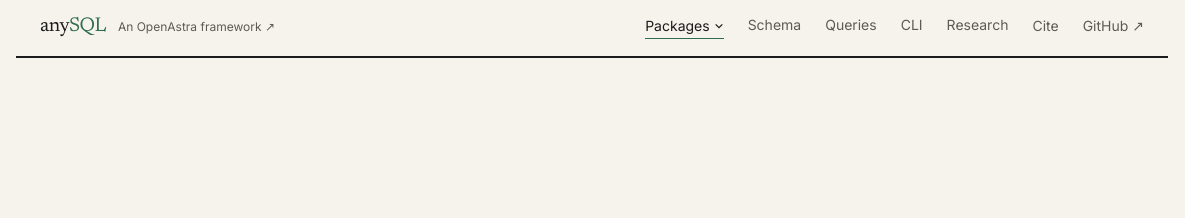
Scenario: Navbar › closes the Packages menu when the current page is chosen
Click the button "Packages": click(684, 28) top-left (645, 16), bottom-right (724, 39)
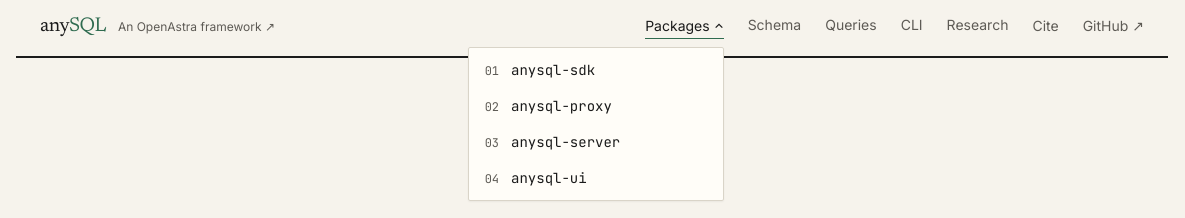
Click the link "02 anysql-proxy": click(548, 106) top-left (485, 97), bottom-right (612, 115)
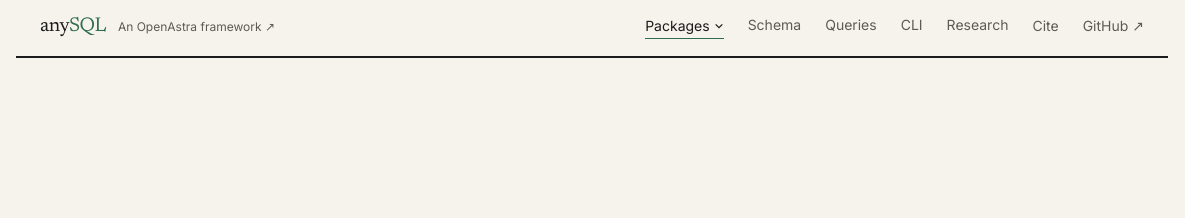
Expected: the button "Packages" is collapsed, top-left (645, 16), bottom-right (724, 39)
